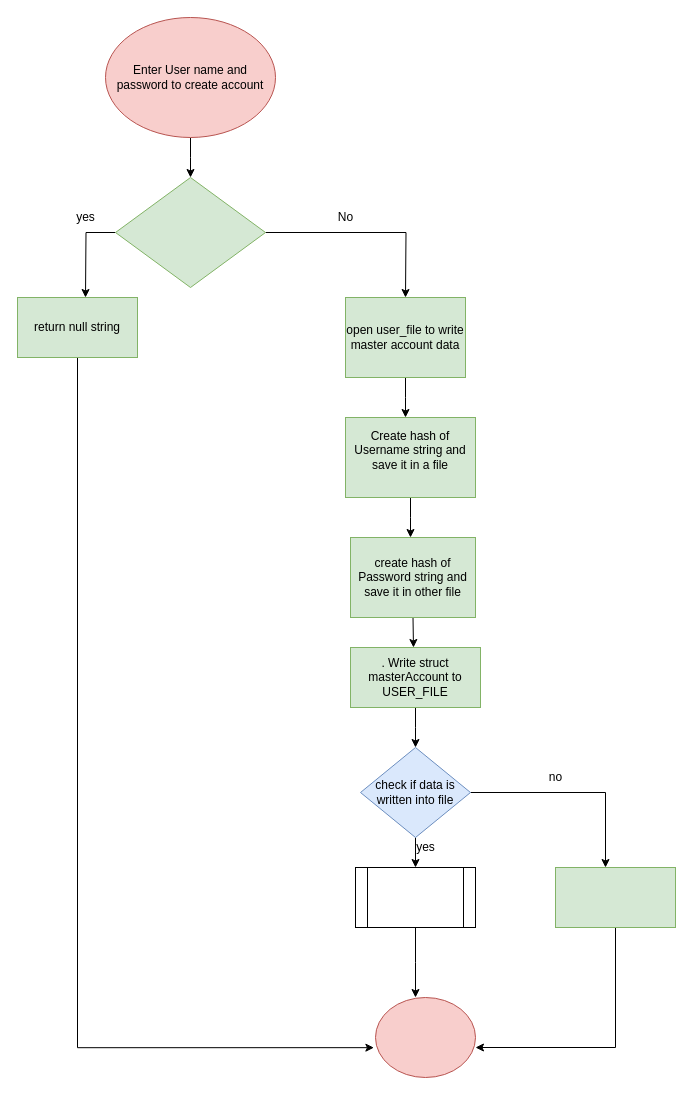
The diagram is 693 pixels wide and 1095 high, and some of its shapes have lost their labels. The centre of each missing label's shape, as x and y in pixels:
"check if username and password is null" belongs at [190,232].
"End" belongs at [425,1037].
"error writing masterUser file" belongs at [615,897].
"success message" belongs at [415,897].
